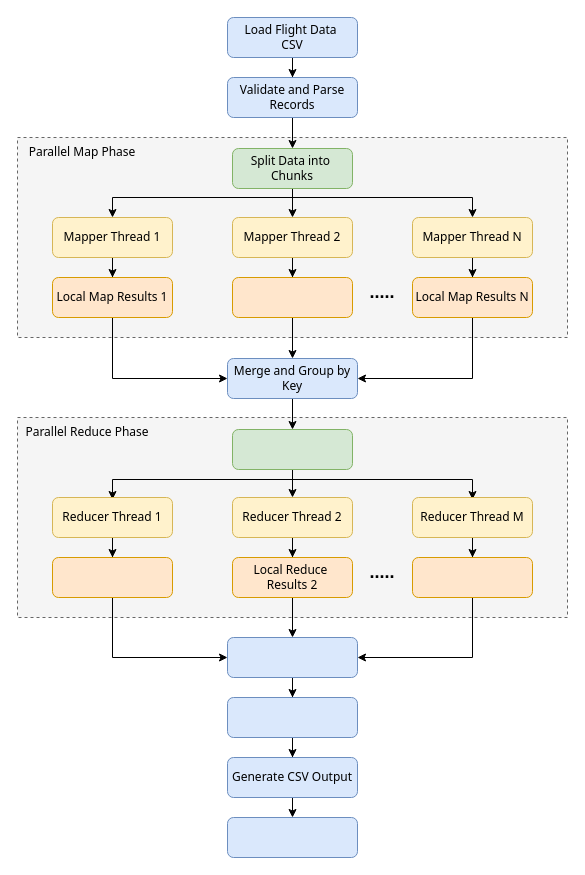
Image size: 585x875. Some labels were removed from this diagram. Here are the shapes that lost their labels. From the top down, the box of each, then its label:
(232, 276, 352, 318): Local Map Results 2
(232, 428, 352, 470): Partition for Reducers
(52, 556, 172, 598): Local Reduce Results 1
(412, 556, 532, 598): Local Reduce Results M
(226, 636, 358, 678): Collect Final Results
(226, 696, 358, 738): Find Maximum Flight Count
(226, 816, 358, 858): Display Top Passenger(s)
